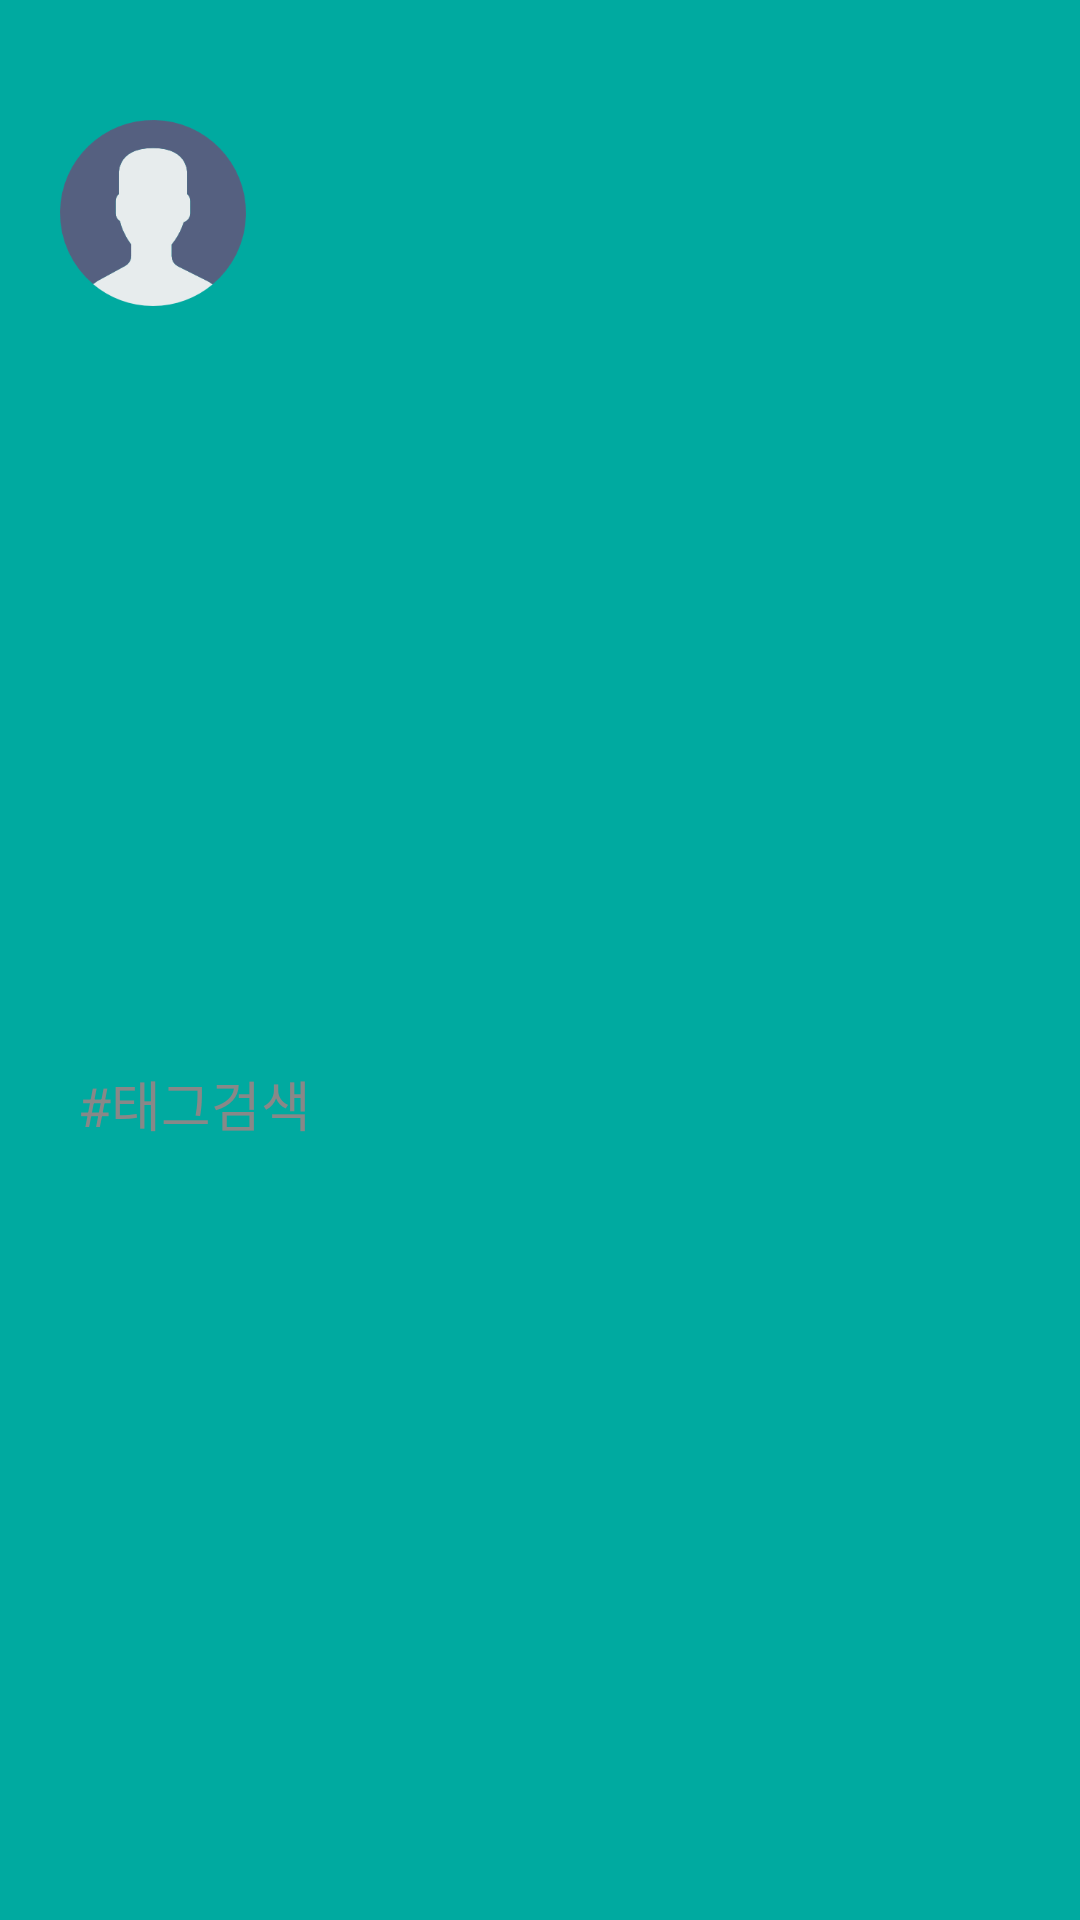

Point at icon controls on the screen. Image size 1080 x 1920, points as (x,y).
user: (153,213)
